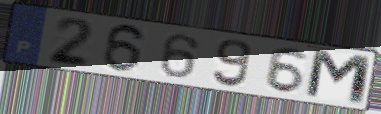2: (49, 17, 98, 69)
6: (102, 23, 151, 74), (262, 46, 309, 95), (159, 33, 201, 80)
9: (213, 38, 255, 89)
M: (302, 47, 375, 108)
